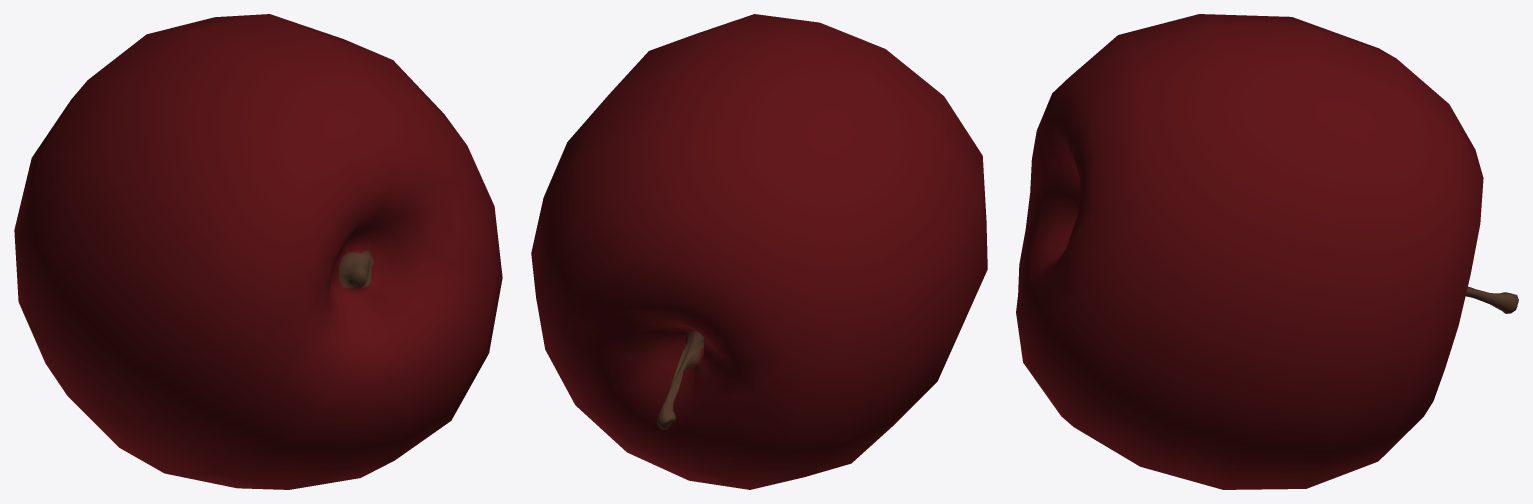
File: Apple.fbx
3 renders of one model, left to right at view 1: azimuth 30°, elevation 25°; view 2: azimuth 150°, elevation 25°; view 3: azimuth 270°, elevation 25°, orthographic. The views are drawn at different scales.
Visible parts, largest first — view 1: node_id3; view 2: node_id3; view 3: node_id3.
Part boxes in pixels (x1=…): node_id3: x1=14, y1=14, x2=502, y2=489; node_id3: x1=531, y1=14, x2=987, y2=489; node_id3: x1=1016, y1=14, x2=1518, y2=489.
Size of the model in its own units: 0.4645 by 0.4821 by 0.511.
Materials: 1 (1 with a texture image).
